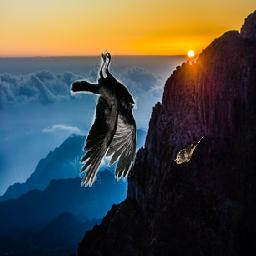Crow: (71, 47, 138, 187)
Cuckoo: (174, 134, 205, 164)
